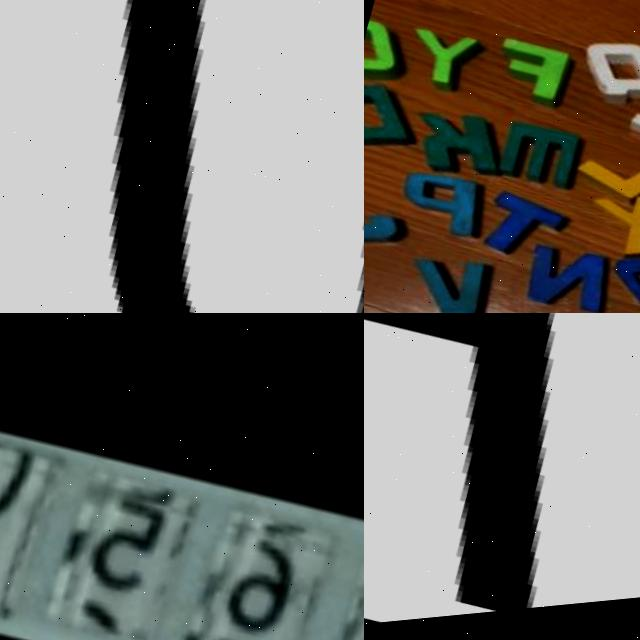0: (0, 428, 52, 539)
5: (71, 478, 180, 611)
6: (200, 527, 315, 640)
B: (603, 237, 640, 313)
C: (364, 17, 409, 91)
D: (364, 75, 422, 158)
F: (364, 313, 640, 640), (484, 33, 575, 117)
J: (364, 174, 402, 257)
K: (402, 102, 506, 191)
L: (561, 130, 640, 219)
M: (491, 115, 589, 202)
N: (515, 240, 612, 313)
P: (390, 163, 486, 249)
Q: (561, 30, 640, 122)
T: (466, 186, 571, 274)
U: (0, 0, 364, 313)
V: (399, 244, 497, 313)
X: (574, 183, 640, 274)
Y: (398, 22, 485, 100)
